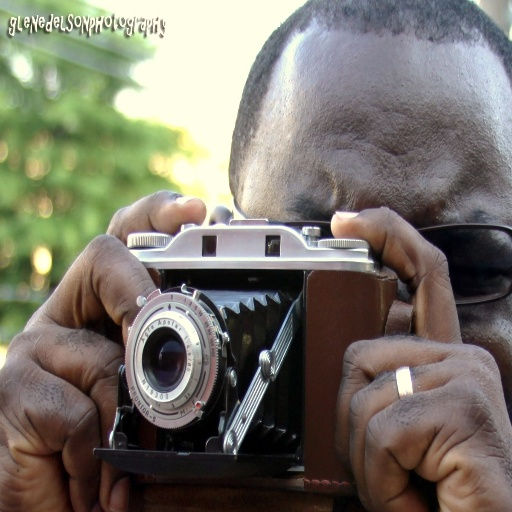hand: (327, 204, 511, 510), (0, 210, 136, 512)
